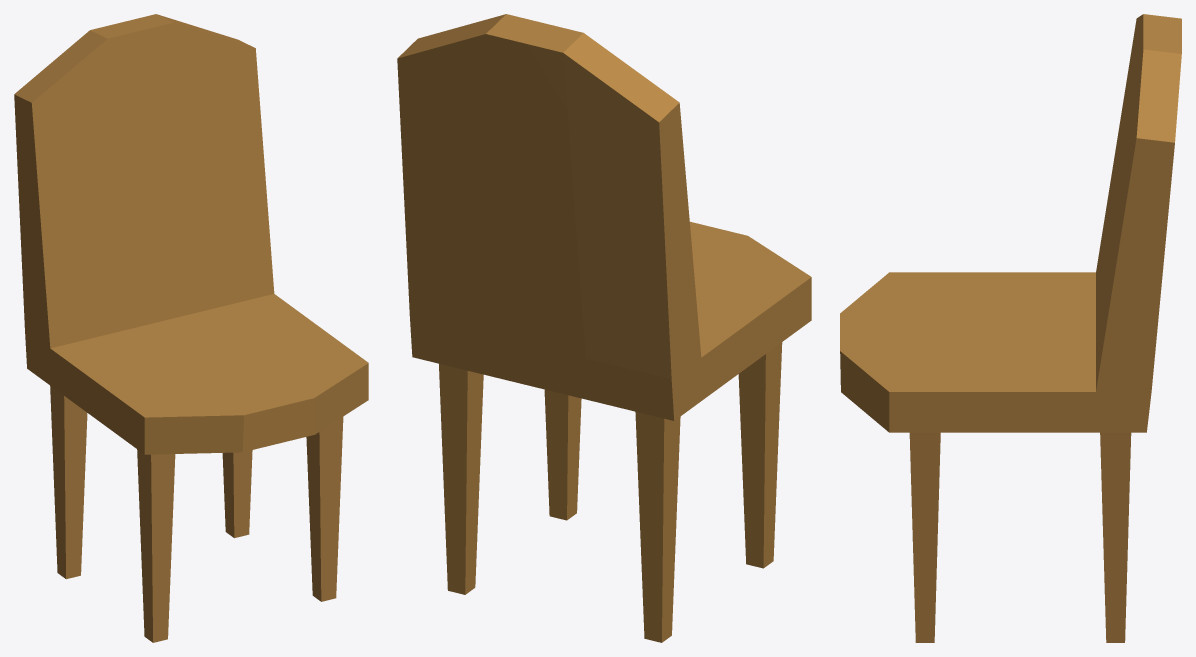
Rendered from chair.glb.
3 views of the same model, side by side, from view 1: azimuth 30°, elevation 25°; view 2: azimuth 150°, elevation 25°; view 3: azimuth 270°, elevation 25° (orthographic). The views are drawn at different scales.
Parts seen in each view (by area): view 1: Standart Chair; view 2: Standart Chair; view 3: Standart Chair.
Part boxes in pixels (x1,y1,x2,y2): Standart Chair: (14, 14, 368, 642); Standart Chair: (397, 14, 811, 642); Standart Chair: (840, 14, 1181, 642).
Bounding box in the file's own units: 0.5273 × 1.16 × 0.6365.
